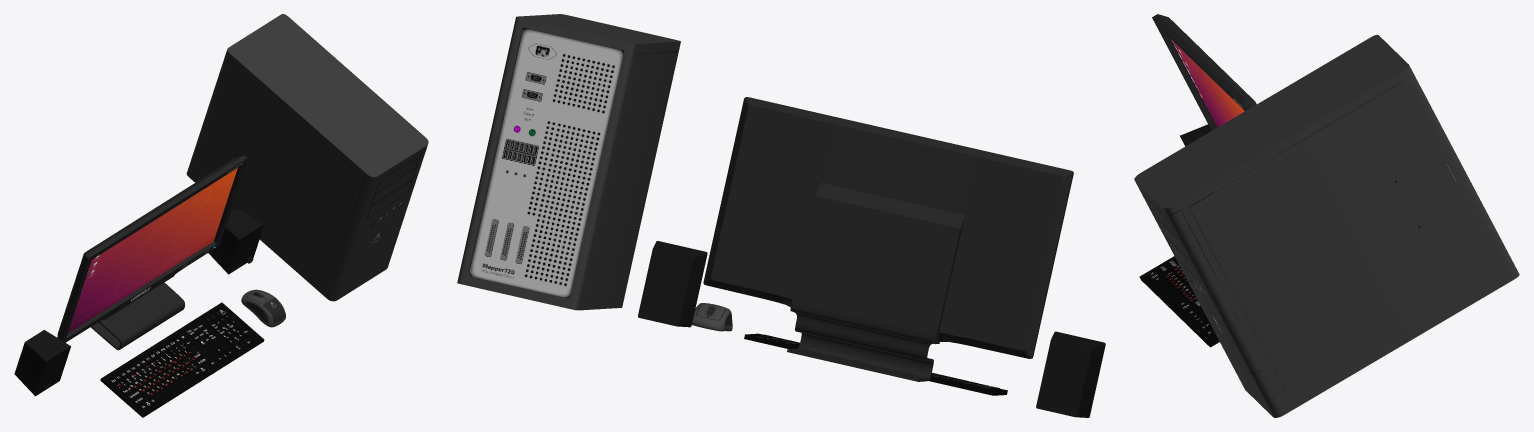
The model's file is Computer.gltf.
3 renders of one model, left to right at view 1: azimuth 30°, elevation 25°; view 2: azimuth 150°, elevation 25°; view 3: azimuth 270°, elevation 25°, orthographic. The views are drawn at different scales.
Visible parts, largest first — view 1: GeometryNode_125_0, GeometryNode_86_0, GeometryNode_29_0, GeometryNode_63_0, GeometryNode_50_0, GeometryNode_112_0, GeometryNode_99_0, GeometryNode_11_0; view 2: GeometryNode_29_0, GeometryNode_125_0, GeometryNode_112_0, GeometryNode_99_0, GeometryNode_11_0, GeometryNode_50_0; view 3: GeometryNode_125_0, GeometryNode_125_1, GeometryNode_29_0, GeometryNode_63_0, GeometryNode_86_0, GeometryNode_50_0.
Part boxes in pixels (x1,y1,x2,y2): GeometryNode_125_0: [186, 14, 428, 301]; GeometryNode_86_0: [68, 168, 237, 332]; GeometryNode_29_0: [57, 155, 247, 350]; GeometryNode_63_0: [109, 313, 258, 411]; GeometryNode_50_0: [100, 302, 264, 417]; GeometryNode_112_0: [14, 330, 70, 396]; GeometryNode_99_0: [208, 208, 264, 274]; GeometryNode_11_0: [241, 289, 285, 327]; GeometryNode_29_0: [703, 97, 1073, 381]; GeometryNode_125_0: [457, 14, 680, 310]; GeometryNode_112_0: [1036, 331, 1105, 417]; GeometryNode_99_0: [638, 241, 707, 327]; GeometryNode_11_0: [692, 303, 732, 331]; GeometryNode_50_0: [744, 333, 1007, 395]; GeometryNode_125_0: [1134, 34, 1519, 417]; GeometryNode_125_1: [1174, 205, 1512, 414]; GeometryNode_29_0: [1152, 14, 1256, 130]; GeometryNode_63_0: [1146, 258, 1216, 339]; GeometryNode_86_0: [1170, 39, 1244, 127]; GeometryNode_50_0: [1139, 256, 1219, 347].
Size of the model in its own units: 100 by 68.15 by 63.79.
Materials: 9 (7 with a texture image).
